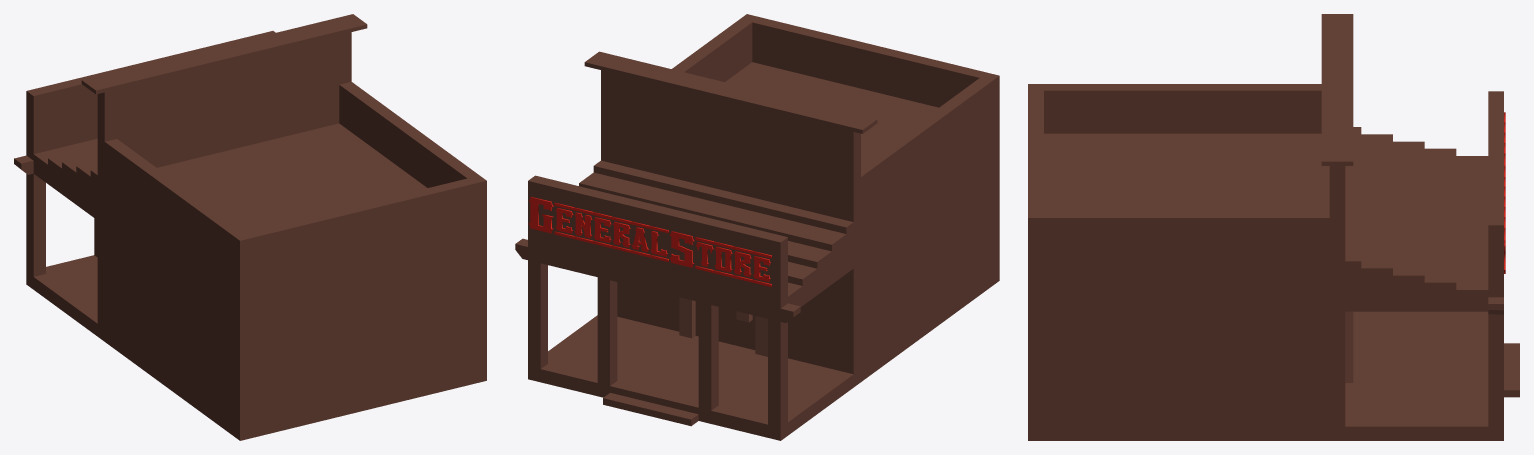
Rendered from general store.fbx.
The picture shows the model from 3 angles, left to right: view 1: azimuth 30°, elevation 25°; view 2: azimuth 150°, elevation 25°; view 3: azimuth 270°, elevation 25°; orthographic projection. The views are drawn at different scales.
Parts seen in each view (by area): view 1: Cube, Cube.002, Cube.011, Cube.007, Cube.003, Cube.009, Cube.004, Cube.008; view 2: Cube.002, Cube, Cube.003, Cube.011, Cube.009, Cube.004, Text, Cube.007, Cube.001, Cube.010, Cube.005, Cube.008; view 3: Cube, Cube.002, Cube.009, Cube.003, Cube.007, Cube.011, Cube.008, Cube.004, Cube.010, Cube.005.
Part boxes in pixels (x1,y1,x2,y2): Cube: [97, 123, 486, 440]; Cube.002: [97, 32, 486, 279]; Cube.011: [26, 31, 275, 160]; Cube.007: [81, 14, 367, 94]; Cube.003: [26, 255, 97, 336]; Cube.009: [33, 138, 97, 207]; Cube.004: [26, 173, 97, 276]; Cube.008: [33, 161, 97, 219]; Cube.002: [601, 14, 999, 221]; Cube: [617, 62, 999, 387]; Cube.003: [528, 315, 853, 440]; Cube.011: [528, 175, 787, 308]; Cube.009: [579, 160, 853, 302]; Cube.004: [528, 260, 787, 427]; Text: [528, 196, 771, 286]; Cube.007: [584, 51, 877, 133]; Cube.001: [515, 238, 800, 322]; Cube.010: [603, 393, 698, 426]; Cube.005: [679, 297, 767, 356]; Cube.008: [788, 255, 853, 306]; Cube: [1028, 133, 1345, 440]; Cube.002: [1028, 84, 1345, 261]; Cube.009: [1345, 127, 1488, 297]; Cube.003: [1345, 311, 1503, 440]; Cube.007: [1321, 14, 1353, 165]; Cube.011: [1488, 91, 1503, 297]; Cube.008: [1345, 297, 1488, 311]; Cube.004: [1488, 314, 1503, 426]; Cube.010: [1504, 343, 1519, 397]; Cube.005: [1345, 311, 1353, 382].
Size of the model in its own units: 4402 by 3980 by 6200.
